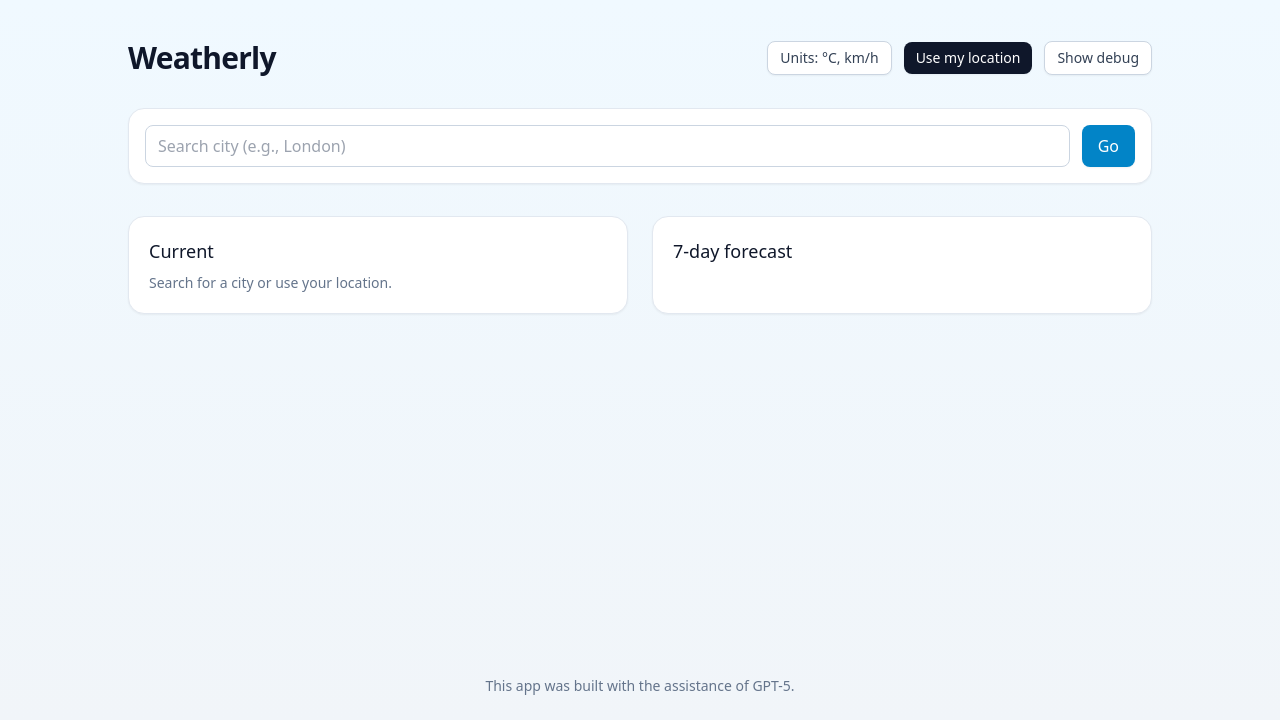
Home page UI › handles geolocation permission denied
Click the button "Use my location": (968, 58) [904, 42, 1032, 74]
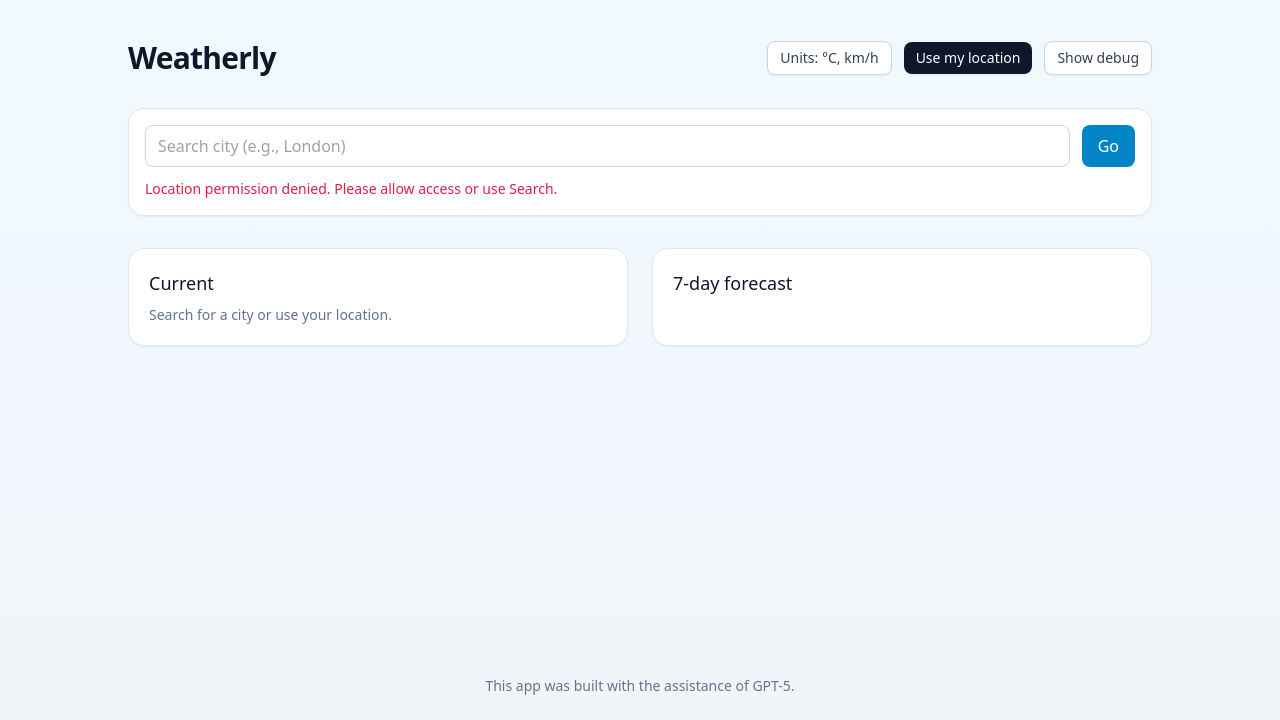
Expected: the text "Location permission denied" is shown, [145, 179, 557, 198]
